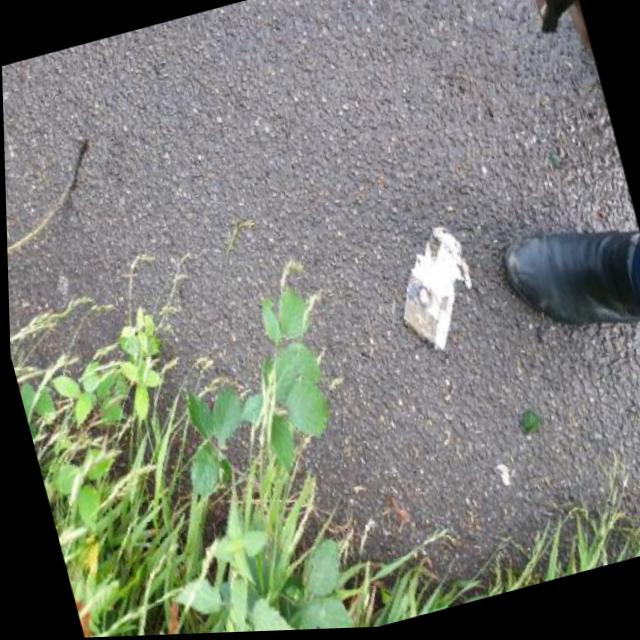cardboard: (385, 220, 488, 359)
